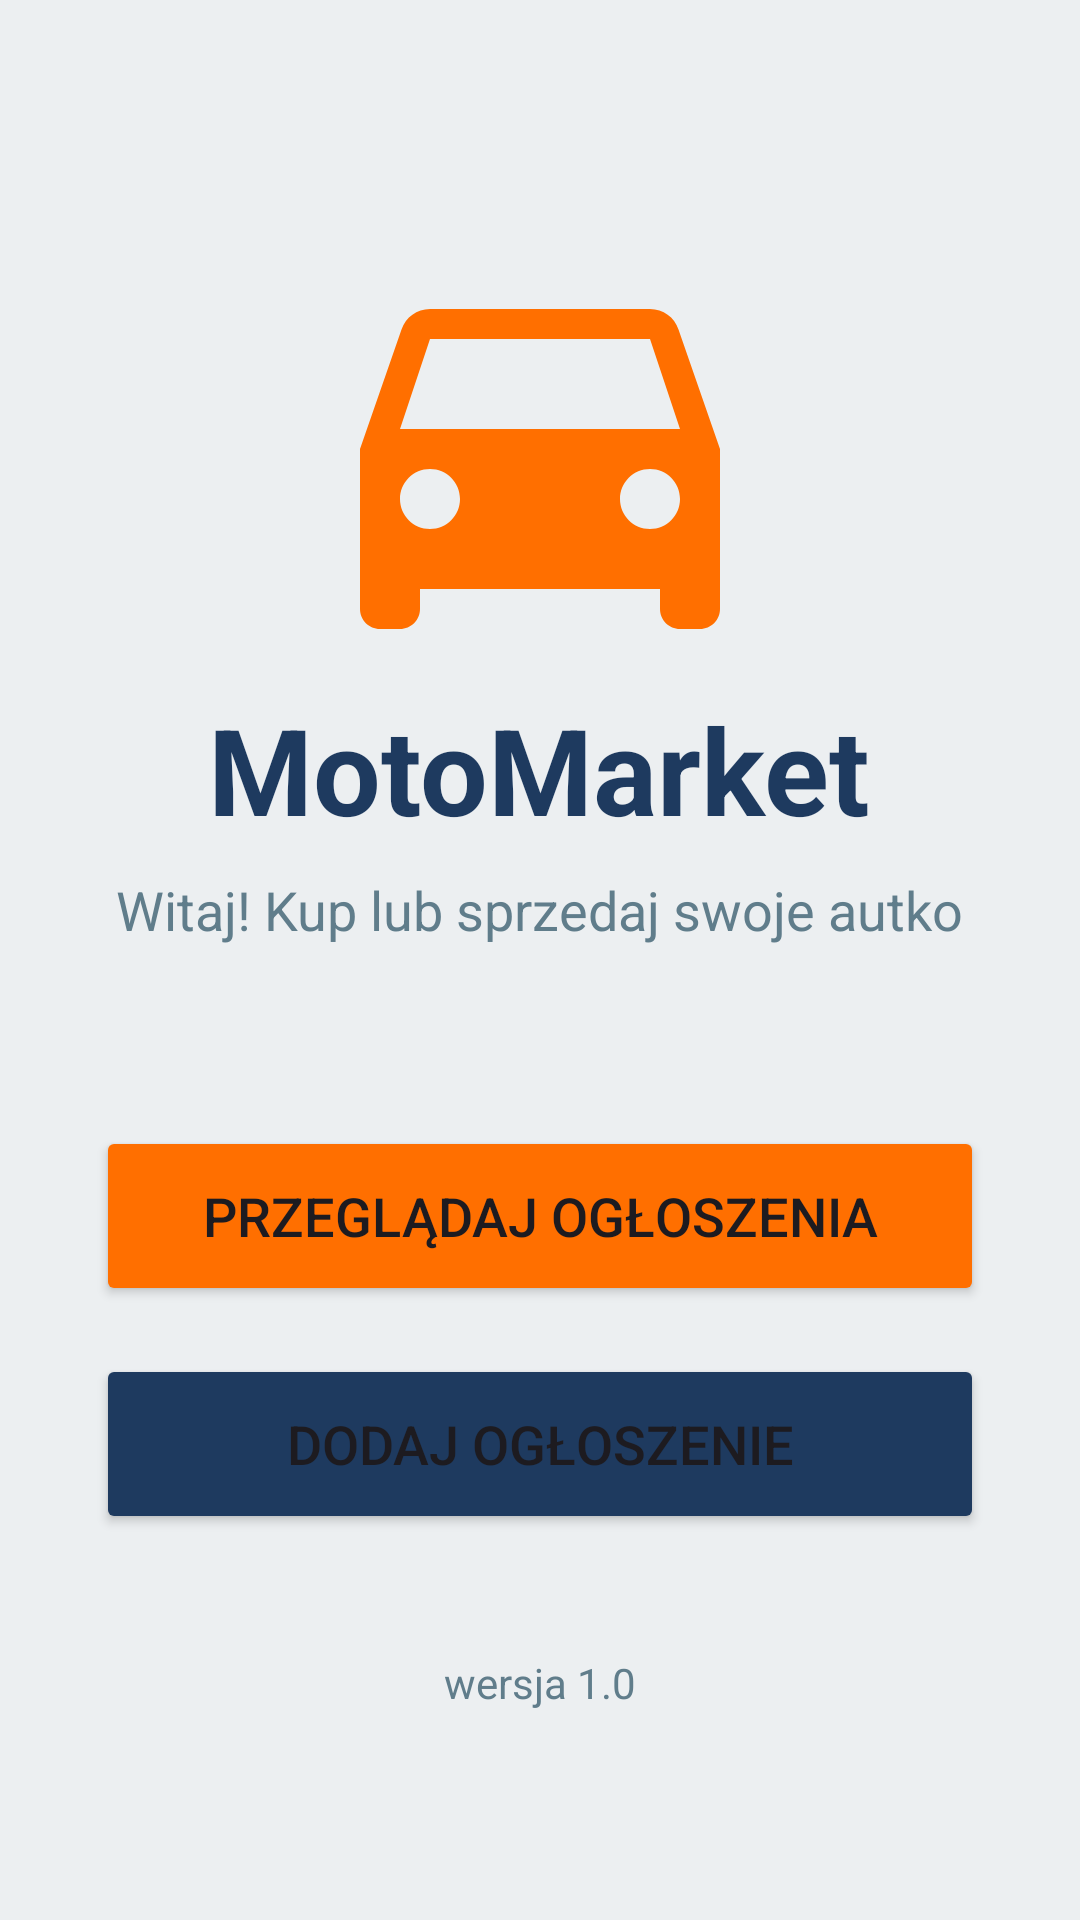

Where icons sit on this 1080*1920 app screen, as box=[x1, y1, x2, y2]:
directions car: box=[360, 309, 720, 629]
